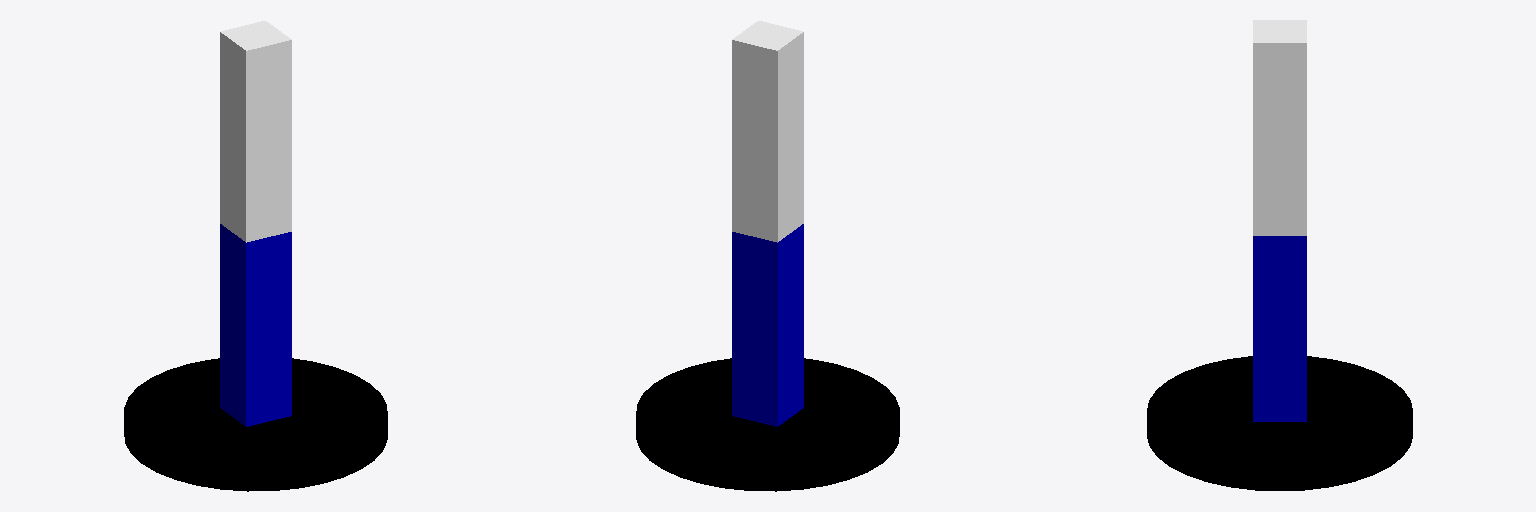
The robot description file, URDF, robot "simple_serial_robot":
<?xml version="1.0"?>
<robot name="simple_serial_robot">

  <material name="blue">
    <color rgba="0 0 0.8 1"/>
  </material>
  <material name="black">
    <color rgba="0 0 0 1"/>
  </material>
  <material name="white">
    <color rgba="1 1 1 1"/>
  </material>

  <link name="base_link">
    <visual>
      <geometry>
        <box size="0.0 0.0 0.0"/>
      </geometry>
      <material name="blue"/>
    </visual>
  </link>

  <link name="arm_base">
    <visual>
      <geometry>
        <cylinder radius="0.25" length="0.05" />
      </geometry>
      <material name="black"/>
    </visual>
  </link>

  <!-- change previous joint so it moves around the z axis instead-->
  <joint name="joint1" type="revolute">
    <parent link="base_link"/>
    <child link="arm_base"/>
    <origin xyz="0 0 0.025"/>
    <axis xyz="0 0 1"/>
    <limit lower="-3.14" upper="3.14" effort="1000.0" velocity="0.5"/>
  </joint>

  <link name="link1">
    <visual>
      <geometry>
        <box size="0.1 0.1 0.4"/>
      </geometry>
      <origin xyz="0 0 0.16"/>
      <material name="blue"/>
    </visual>
  </link>

  <joint name="joint2" type="revolute">
    <parent link="arm_base"/>
    <child link="link1"/>
    <origin xyz="0.0 0 0.05"/>
    <limit lower="-3.14" upper="3.14" effort="1000.0" velocity="0.5"/>
  </joint>

  <link name="link2">
    <visual>
      <geometry>
        <box size="0.1 0.1 0.4"/>
      </geometry>
      <origin xyz="0 0 0.16"/>
      <material name="white"/>
    </visual>
  </link>

  <joint name="joint3" type="revolute">
    <parent link="link1"/>
    <child link="link2"/>
    <origin xyz="0 0 0.4"/>
    <limit lower="-3.14" upper="3.14" effort="1000.0" velocity="0.5"/>
  </joint>



</robot>

--- Render facts (derived) ---
3 views of the same robot in one strip: view 1: azimuth 30°, elevation 25°; view 2: azimuth 150°, elevation 25°; view 3: azimuth 270°, elevation 25° (orthographic).
Robot: simple_serial_robot — 4 links, 3 joints (3 revolute); root link base_link; default pose: all joints at 0.
Links seen in each view (by area): view 1: arm_base, link2, link1; view 2: arm_base, link2, link1; view 3: arm_base, link2, link1.
Boxes of the visible links, x1=… form: arm_base: x1=124, y1=358, x2=387, y2=491; link2: x1=220, y1=21, x2=291, y2=242; link1: x1=220, y1=224, x2=291, y2=426; arm_base: x1=636, y1=358, x2=899, y2=491; link2: x1=732, y1=21, x2=803, y2=242; link1: x1=732, y1=224, x2=803, y2=426; arm_base: x1=1147, y1=356, x2=1412, y2=490; link2: x1=1253, y1=20, x2=1306, y2=235; link1: x1=1253, y1=236, x2=1306, y2=421.
Bounding box of the posed robot: 0.5 × 0.5 × 0.835 m (x, y, z).
Geometry: primitives only (box / cylinder / sphere), no mesh files.